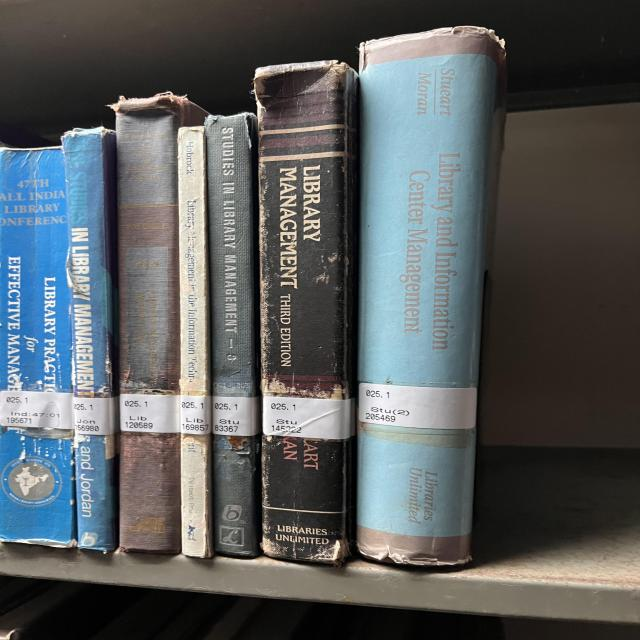Book: (357, 26, 505, 566), (255, 61, 358, 565), (112, 92, 207, 554), (0, 146, 78, 548), (205, 112, 262, 558), (62, 128, 118, 551), (178, 126, 213, 558)
Label: (358, 382, 477, 429), (263, 396, 353, 440), (0, 390, 73, 429), (120, 394, 180, 432), (212, 396, 260, 436), (73, 398, 118, 435), (180, 395, 212, 435)
